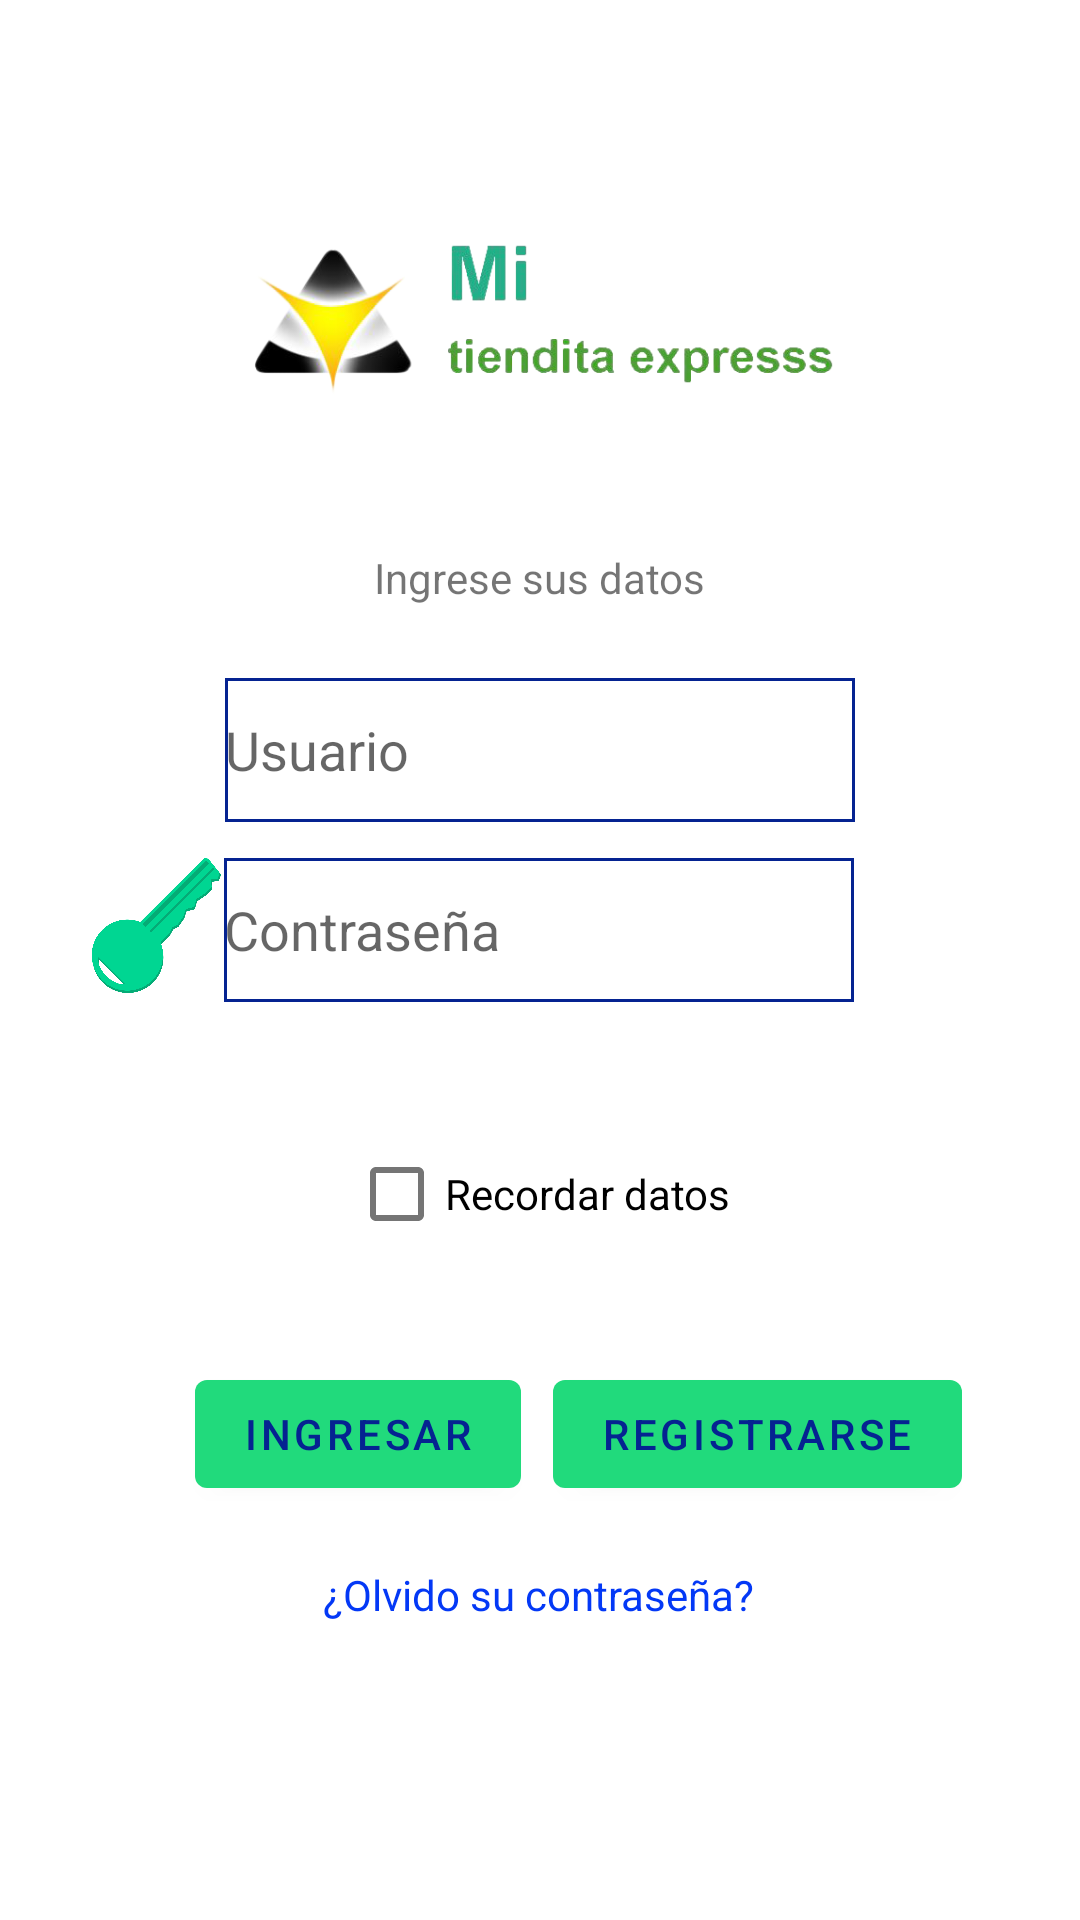

Icons on this 1080×1920 Android screen, each with its box as (x1, y1, x2, y2):
key: (92, 858, 221, 993)
